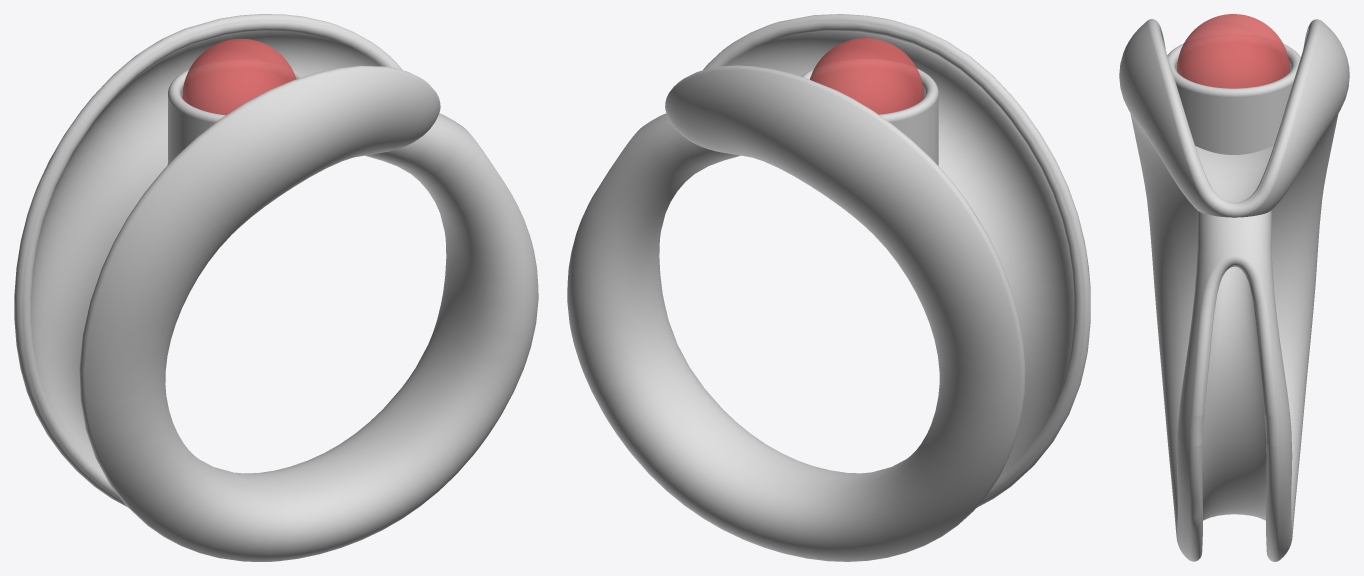
3 views of the same model, side by side, from view 1: azimuth 30°, elevation 25°; view 2: azimuth 150°, elevation 25°; view 3: azimuth 270°, elevation 25° (orthographic). The views are drawn at different scales.
Parts seen in each view (by area): view 1: anillo, piedra, bisel; view 2: anillo, piedra, bisel; view 3: anillo, bisel, piedra.
Boxes of the visible parts, box(x1,y1,x2,y2) form: anillo: box(14, 14, 538, 561); piedra: box(182, 38, 296, 114); bisel: box(167, 69, 304, 164); anillo: box(567, 14, 1090, 561); piedra: box(810, 38, 923, 114); bisel: box(801, 68, 938, 165); anillo: box(1119, 19, 1349, 561); bisel: box(1167, 43, 1300, 154); piedra: box(1177, 14, 1289, 88).
Bounding box in the file's own units: 0.0254 × 0.0263 × 0.0112.
